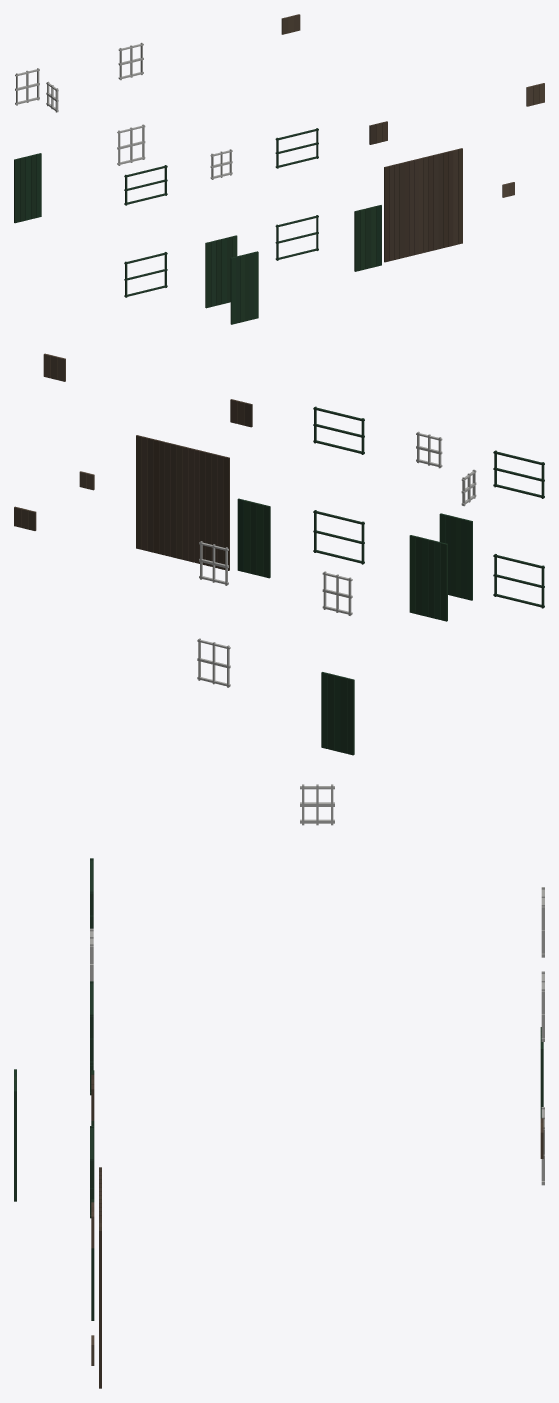
The model's file is SM_Bld_009_Wood.glb.
3 renders of one model, top to bottom at view 1: azimuth 30°, elevation 25°; view 2: azimuth 150°, elevation 25°; view 3: azimuth 270°, elevation 25°, orthographic. The views are drawn at different scales.
Parts seen in each view (by area): view 1: SM_Bld_009_Wood; view 2: SM_Bld_009_Wood; view 3: SM_Bld_009_Wood.
Boxes of the visible parts, box(x1,y1,x2,y2) form: SM_Bld_009_Wood: box(14, 14, 544, 324); SM_Bld_009_Wood: box(14, 353, 544, 755); SM_Bld_009_Wood: box(14, 784, 544, 1388).
Bounding box in the file's own units: 14.1 × 6.15 × 9.15.
